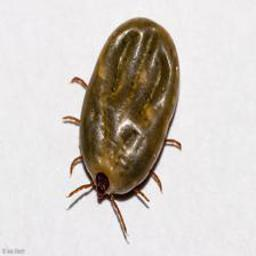Rhipicephalus sanguineus: (61, 17, 183, 239)
